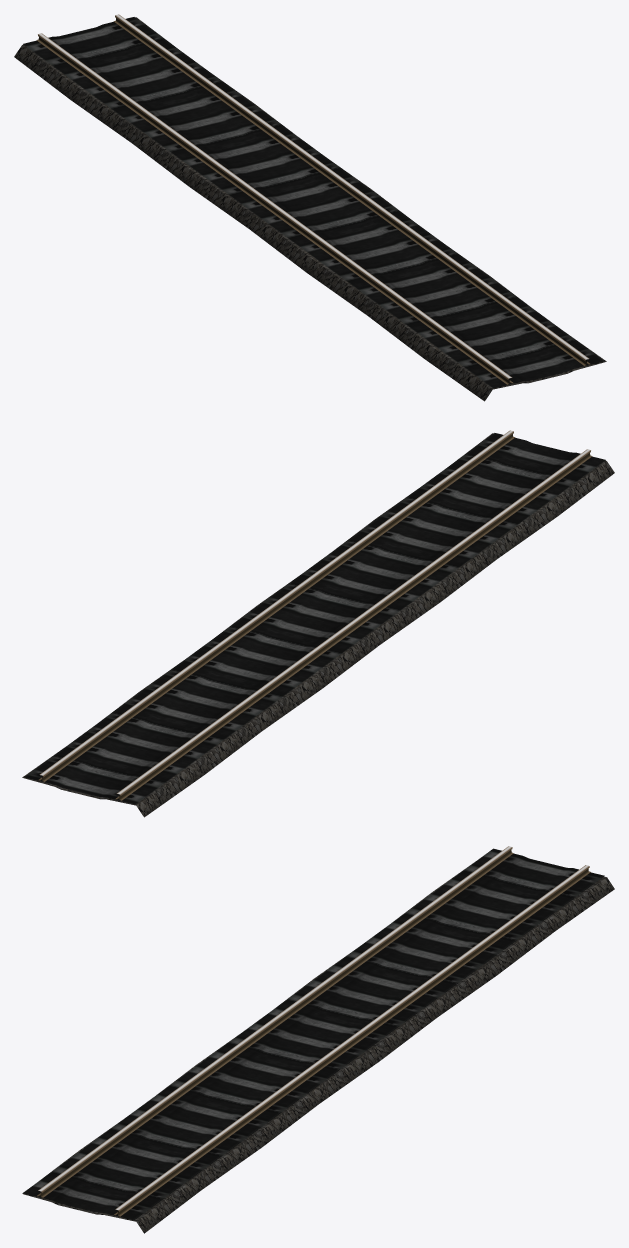
Rendered from KH_1RAIL_50.glb.
The picture shows the model from 3 angles, top to bottom: view 1: azimuth 30°, elevation 25°; view 2: azimuth 150°, elevation 25°; view 3: azimuth 330°, elevation 25°; orthographic projection.
Visible parts, largest first — view 1: obj6; view 2: obj6; view 3: obj6.
Part boxes in pixels (x1,y1,x2,y2): obj6: [14, 14, 606, 401]; obj6: [22, 430, 614, 817]; obj6: [22, 846, 614, 1233].
Size of the model in its own units: 8.09 by 1.01 by 49.99.
3 materials, 2 textured.
